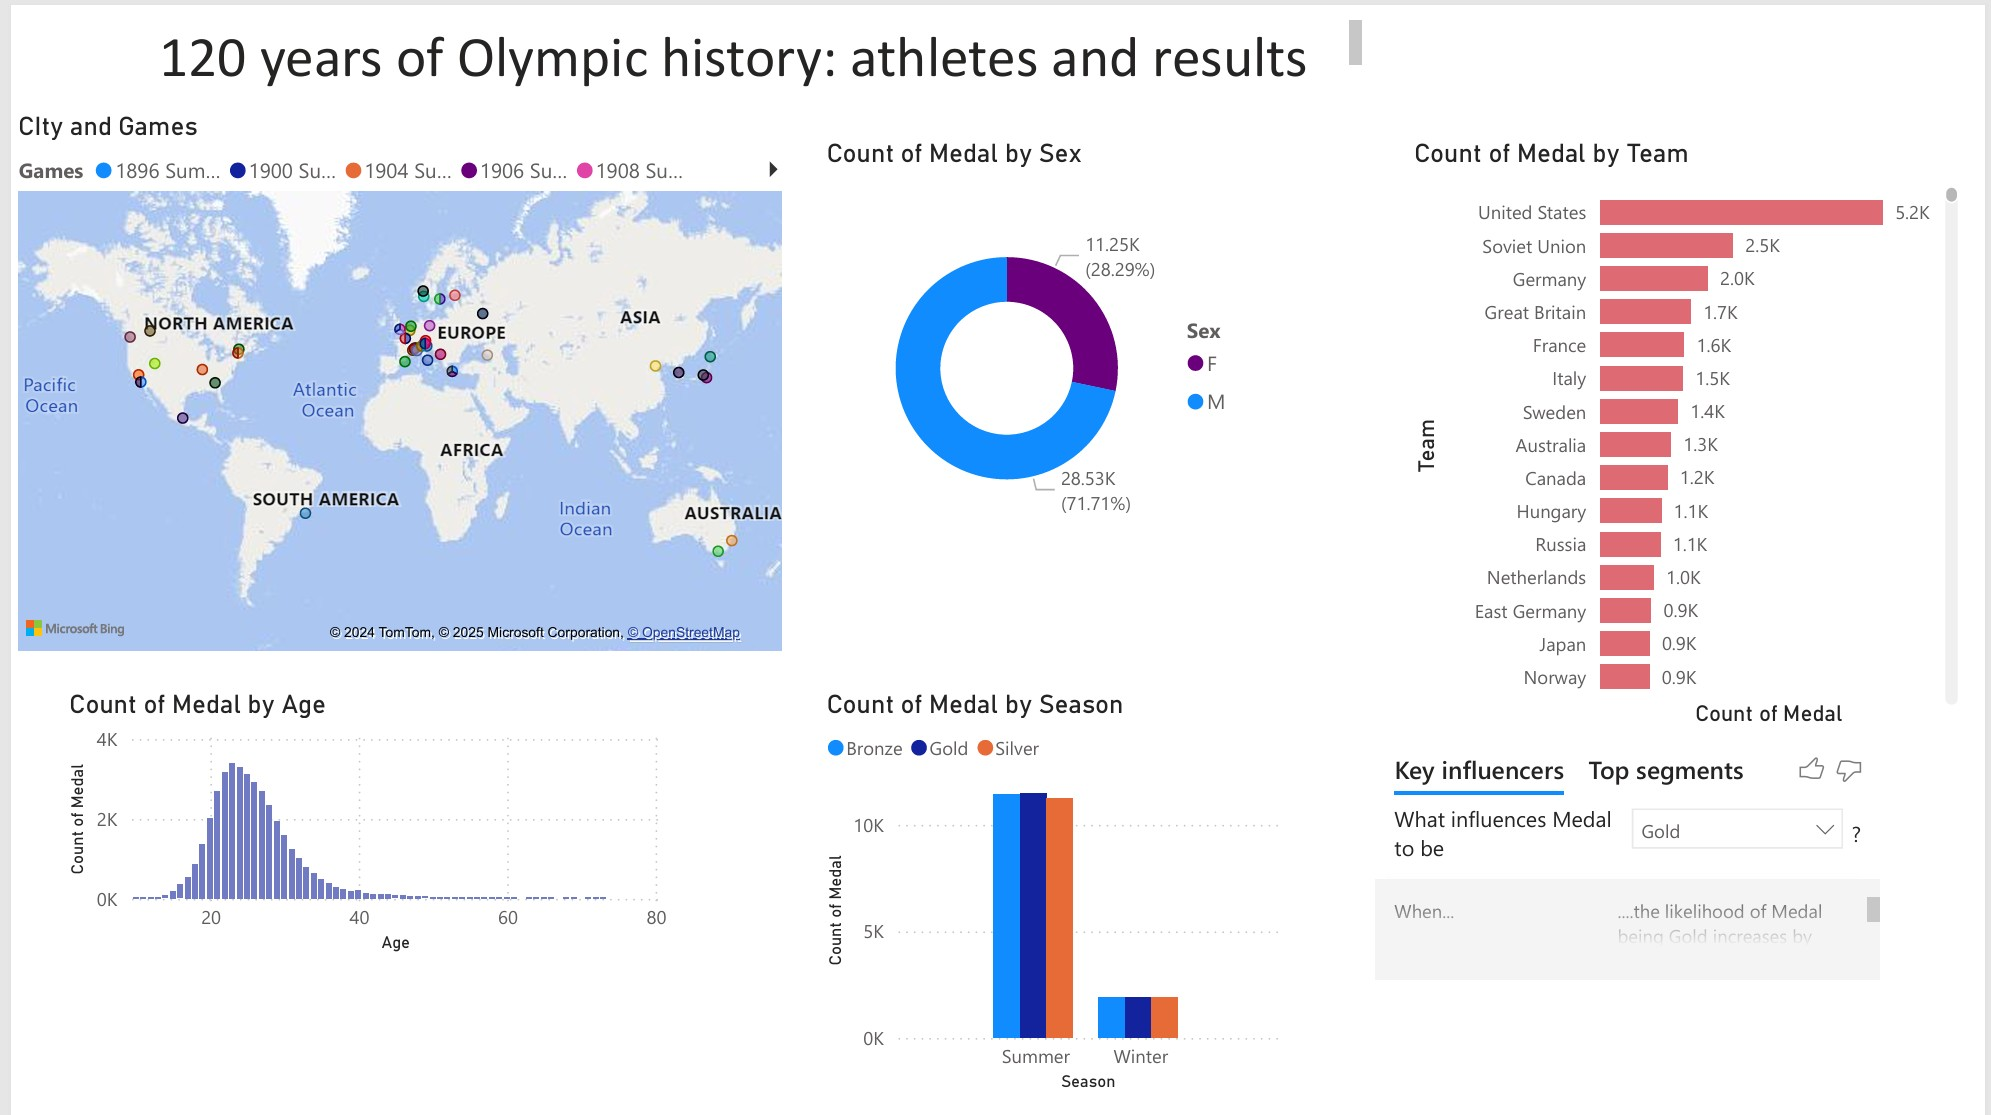

The page's visual inventory and layout, read from the dashboard file:
{"tool":"powerbi","page":{"name":"Page 1","canvas":[1280,720],"ordinal":0},"visuals":[{"type":"textbox","box":[90.9,0,789.6,53],"z":0},{"type":"map","fields":{"Category":["athlete_events1.CIty"],"Series":["athlete_events1.Games"]},"box":[0,63.3,504.7,356],"z":1000},{"type":"donutChart","fields":{"Series":["athlete_events1.Sex"],"Y":["CountNonNull(athlete_events1.Medal)"]},"box":[523.7,80.7,286.4,280],"z":2000},{"type":"clusteredBarChart","fields":{"Category":["athlete_events1.Team"],"Y":["CountNonNull(athlete_events1.Medal)"]},"box":[905,80.7,362.3,386.1],"z":3000},{"type":"lineStackedColumnComboChart","fields":{"Category":["athlete_events1.Age"],"Y":["CountNonNull(athlete_events1.Medal)"]},"box":[33.2,438.3,397.1,175.6],"z":4000},{"type":"clusteredColumnChart","title":"Count of Medal by Season","fields":{"Category":["athlete_events1.Season"],"Series":["athlete_events1.Medal"],"Y":["CountNonNull(athlete_events1.Medal)"]},"box":[523.7,438.3,302.2,265.8],"z":5000},{"type":"keyDriversVisual","fields":{"Target":["athlete_events1.Medal"],"ExplainBy":["athlete_events1.Sport"]},"box":[879.6,467.1,336.7,165.3],"z":6000}]}

Visuals, with their boxes in screenshot pixels (x1, y1, x2, y2), scaled from the page's 1280x720 canvas onto the 1991x1115 screenshot:
textbox: [left=141, top=0, right=1370, bottom=82]
map - athlete_events1.CIty x athlete_events1.Games: [left=0, top=98, right=785, bottom=649]
donutChart - athlete_events1.Sex x CountNonNull(athlete_events1.Medal): [left=815, top=125, right=1260, bottom=559]
clusteredBarChart - athlete_events1.Team x CountNonNull(athlete_events1.Medal): [left=1408, top=125, right=1971, bottom=723]
lineStackedColumnComboChart - athlete_events1.Age x CountNonNull(athlete_events1.Medal): [left=52, top=679, right=669, bottom=951]
"Count of Medal by Season" clusteredColumnChart: [left=815, top=679, right=1285, bottom=1090]
keyDriversVisual - athlete_events1.Medal x athlete_events1.Sport: [left=1368, top=723, right=1892, bottom=979]
